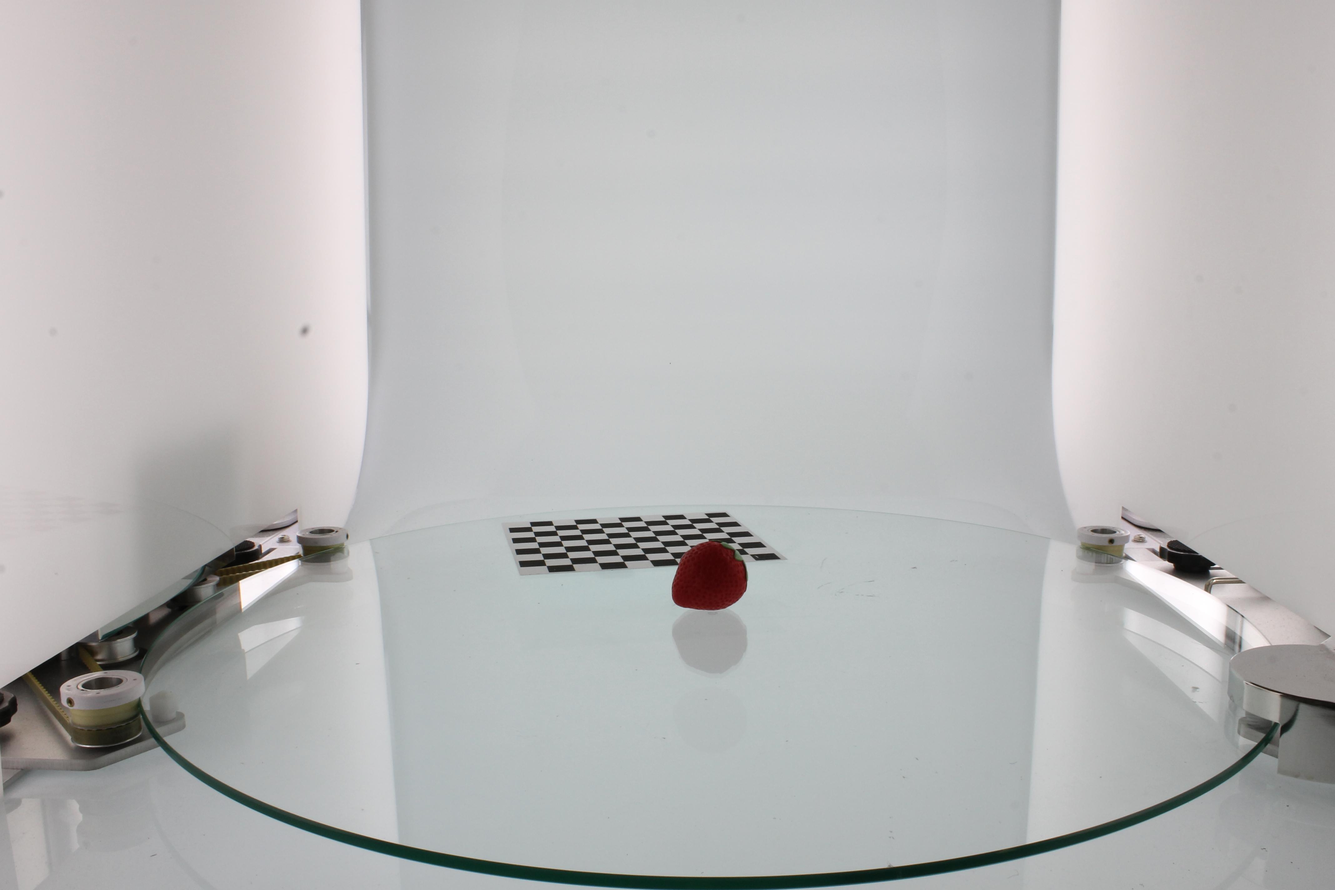strawberry: (672, 539, 747, 610)
